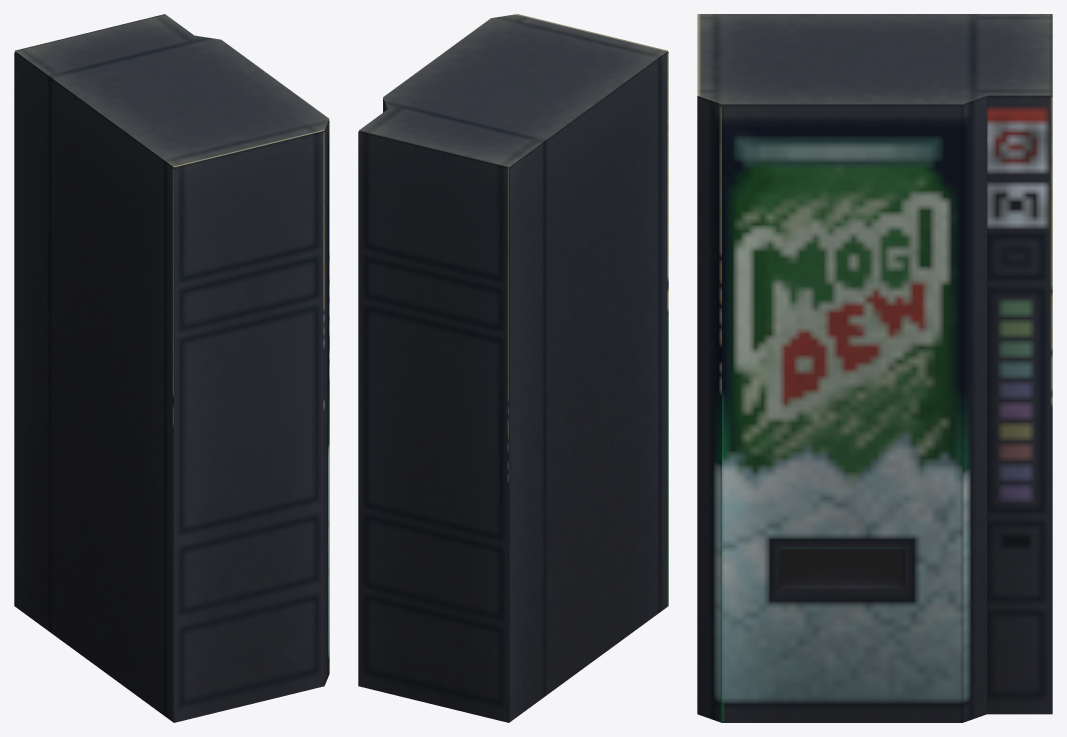
Rendered from vendingmachine.obj.
3 views of the same model, side by side, from view 1: azimuth 30°, elevation 25°; view 2: azimuth 150°, elevation 25°; view 3: azimuth 270°, elevation 25° (orthographic). The views are drawn at different scales.
Visible parts, largest first — view 1: VendingMachine; view 2: VendingMachine; view 3: VendingMachine.
Boxes of the visible parts, left/top/right/bottom form: VendingMachine: left=14, top=14, right=329, bottom=722; VendingMachine: left=358, top=14, right=668, bottom=722; VendingMachine: left=697, top=14, right=1052, bottom=722.
Size of the model in its own units: 0.2213 by 0.7052 by 0.3671.
1 material, 1 textured.
